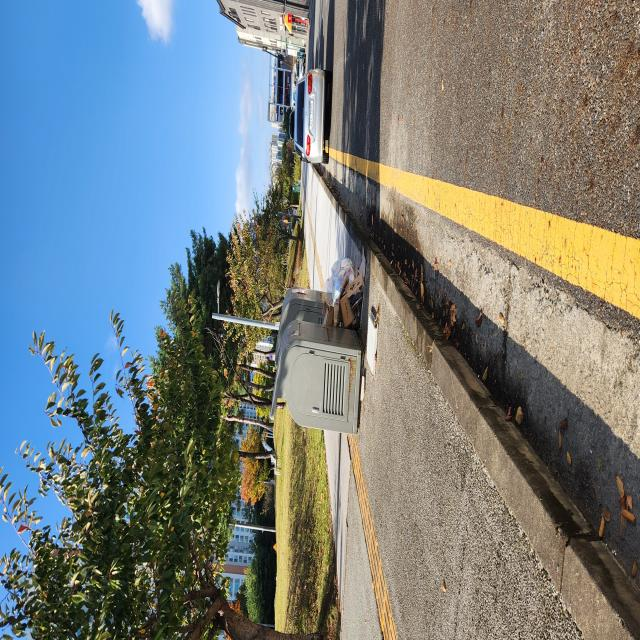CleanNet: (91, 573, 147, 640), (129, 590, 168, 640)
